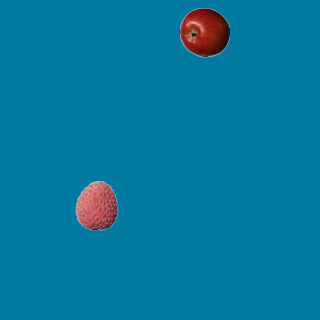Apple Braeburn: (179, 7, 229, 57)
Lychee: (71, 180, 121, 230)
